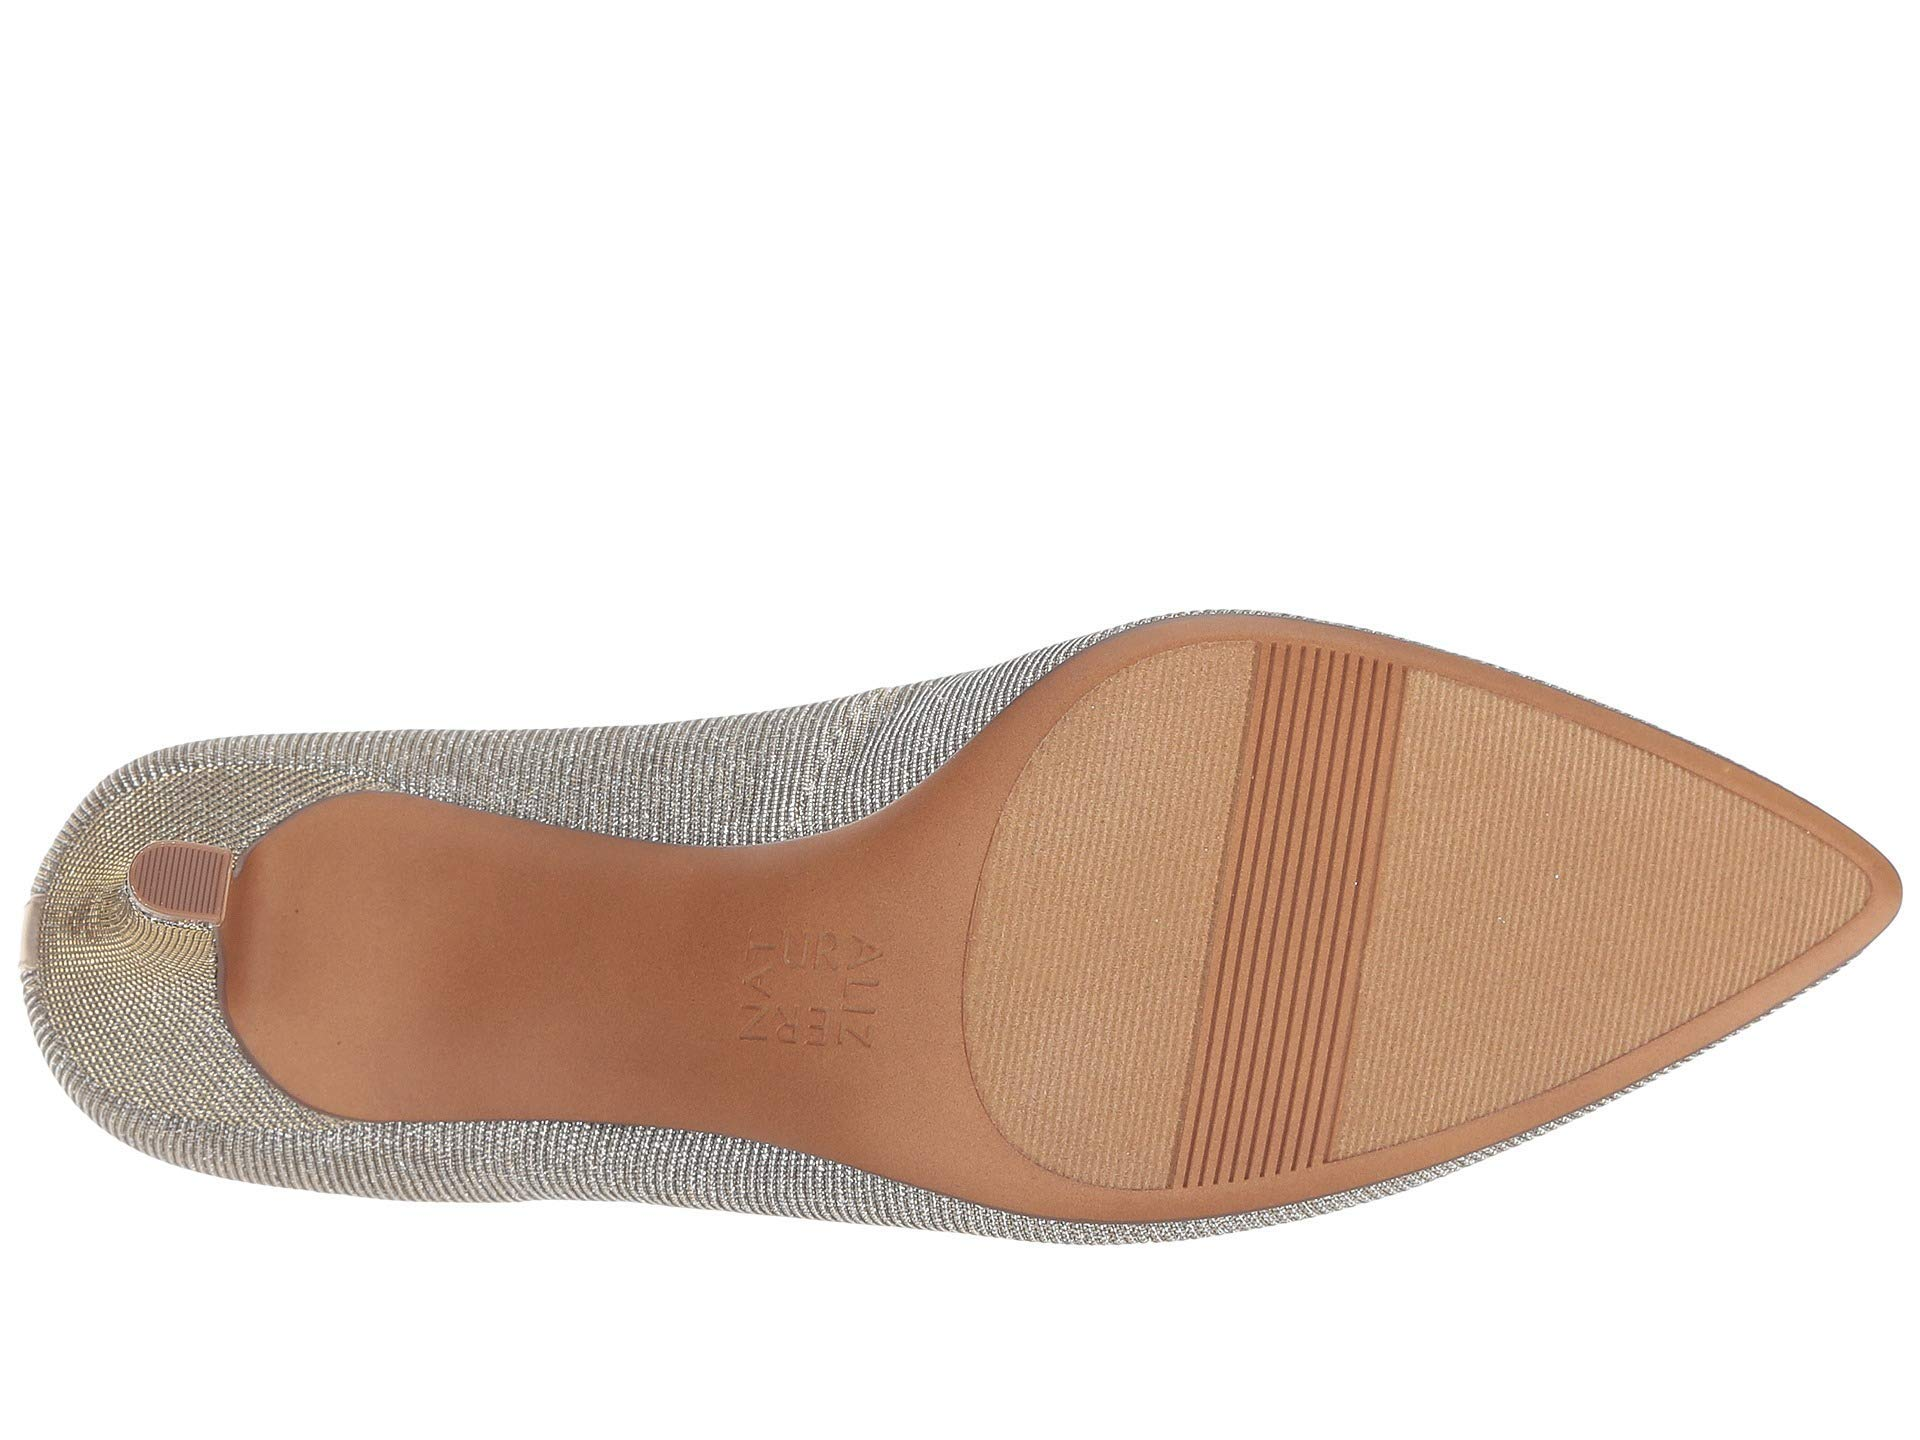exclude: (272, 814, 927, 1147)
line: (1212, 626, 1460, 1122), (145, 846, 221, 908)
